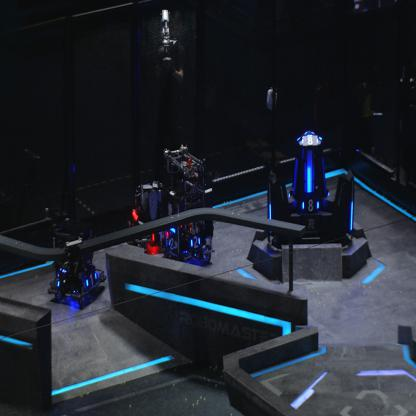car: (160, 144, 214, 261), (47, 223, 106, 308), (125, 180, 173, 251)
